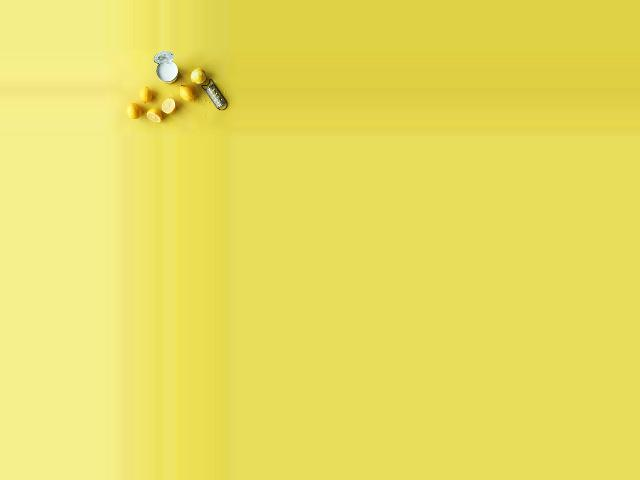lemon: (187, 67, 204, 87)
